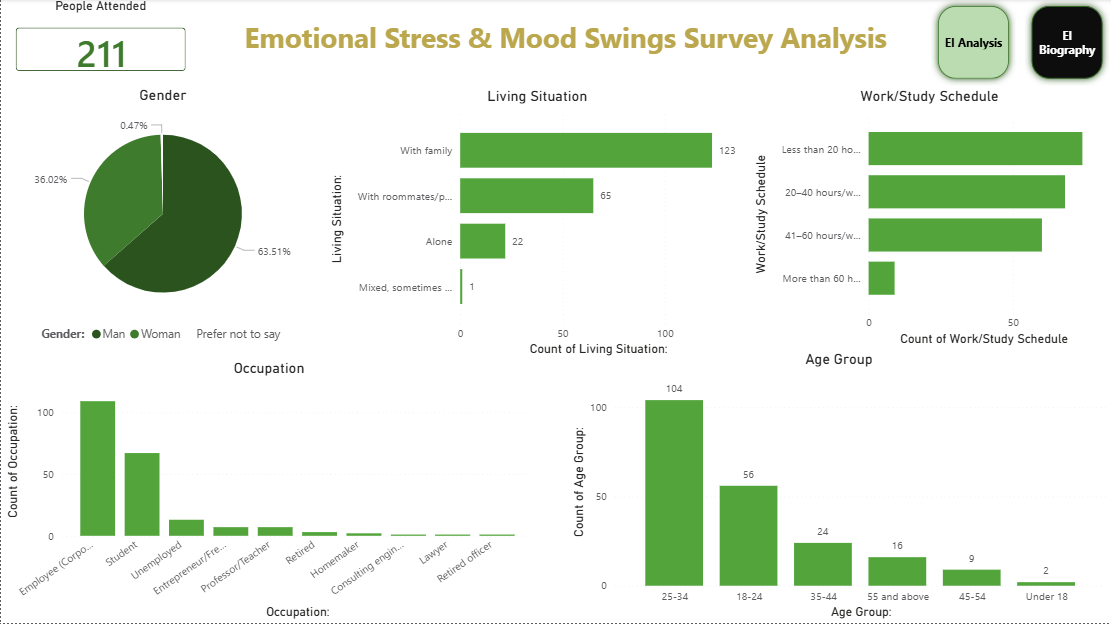

The dashboard page shown, as its layout file describes it:
{"tool":"powerbi","page":{"name":"EI Biography","canvas":[1280,720],"ordinal":1},"visuals":[{"type":"clusteredColumnChart","title":"Age Group","fields":{"Category":["cleaned_EI_survey_data.Age Group:"],"Y":["CountNonNull(cleaned_EI_survey_data.Age Group:)"]},"box":[652.5,405,627.5,315],"z":0},{"type":"pieChart","title":"Gender","fields":{"Category":["cleaned_EI_survey_data.Gender:"],"Y":["CountNonNull(cleaned_EI_survey_data.Gender:)"]},"box":[0,100,373.8,305],"z":1000},{"type":"cardVisual","title":"People Attended","fields":{"Data":["CountNonNull(cleaned_EI_survey_data.Id)"]},"box":[0,0,230,100],"z":2000},{"type":"clusteredBarChart","title":"Living Situation","fields":{"Category":["cleaned_EI_survey_data.Living Situation:"],"Y":["CountNonNull(cleaned_EI_survey_data.Living Situation:)"]},"box":[373.3,101.7,490,315],"z":3000},{"type":"textbox","box":[230,0,843.8,100],"z":4000},{"type":"pageNavigator","box":[1073.3,0,206.7,100],"z":5000},{"type":"columnChart","title":"Occupation","fields":{"Category":["cleaned_EI_survey_data.Occupation:"],"Y":["CountNonNull(cleaned_EI_survey_data.Occupation:)"]},"box":[0,415,618.8,305],"z":6000},{"type":"clusteredBarChart","title":"Work/Study Schedule","fields":{"Category":["cleaned_EI_survey_data.Work/Study Schedule"],"Y":["CountNonNull(cleaned_EI_survey_data.Work/Study Schedule)"]},"box":[863.3,101.7,416.7,303.3],"z":7000}]}

Visuals, with their boxes in screenshot pixels (x1, y1, x2, y2), scaled from the page's 1280x720 canvas onto the 1111x624 screenshot:
"Age Group" clusteredColumnChart: x1=566, y1=351, x2=1110, y2=623
"Gender" pieChart: x1=0, y1=87, x2=324, y2=351
"People Attended" cardVisual: x1=0, y1=0, x2=200, y2=87
"Living Situation" clusteredBarChart: x1=324, y1=88, x2=749, y2=361
textbox: x1=200, y1=0, x2=932, y2=87
pageNavigator: x1=932, y1=0, x2=1110, y2=87
"Occupation" columnChart: x1=0, y1=360, x2=537, y2=623
"Work/Study Schedule" clusteredBarChart: x1=749, y1=88, x2=1110, y2=351
